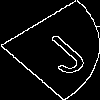J: (25, 25, 94, 78)
